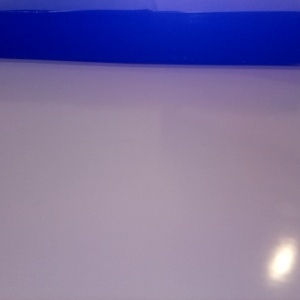zone: (12, 12, 300, 68)
